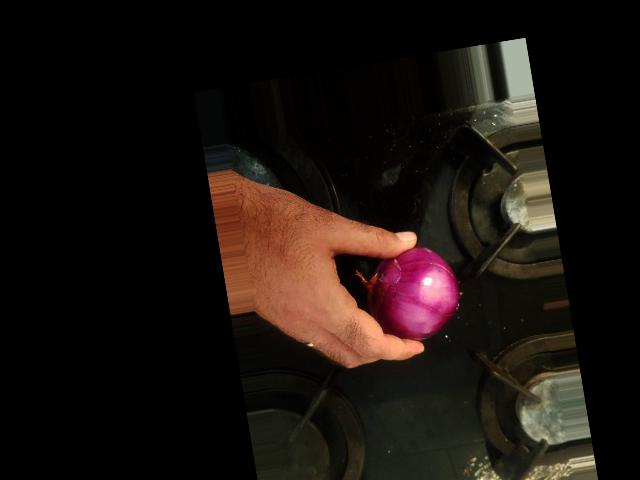onion: (368, 245, 458, 343)
